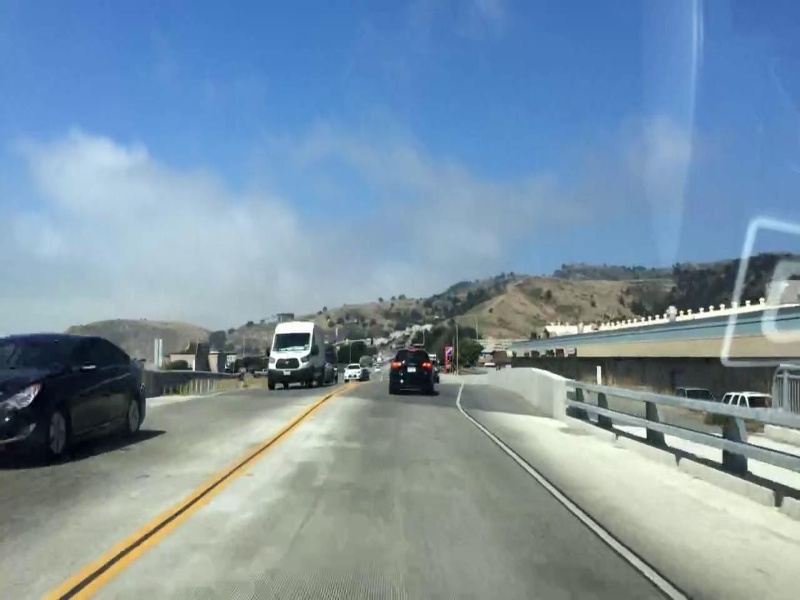car: (3, 320, 147, 476), (263, 316, 327, 393), (384, 347, 445, 400), (342, 360, 367, 381)
